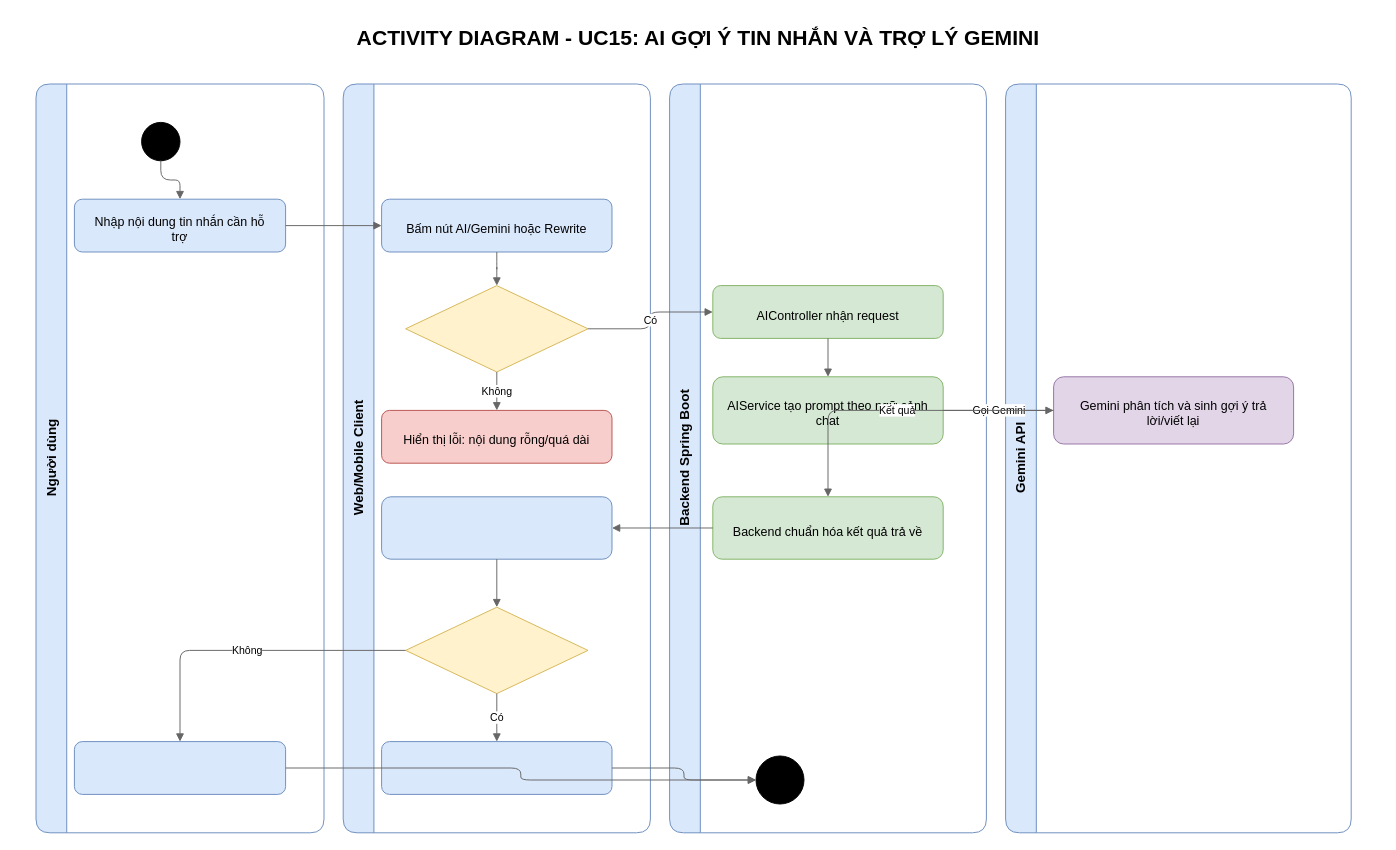
The diagram is 1396 pixels wide and 850 high, and some of its shapes have lost their labels. The centre of each missing label's shape, as x and y in pixels:
"Hiển thị gợi ý cho người dùng" goes at pixel 496 527.
"Nội dung hợp lệ?" goes at pixel 496 328.
"Tự chỉnh sửa hoặc bỏ qua" goes at pixel 179 767.
"Áp dụng gợi ý?" goes at pixel 496 650.
"Đưa gợi ý vào ô nhập tin nhắn" goes at pixel 496 767.
